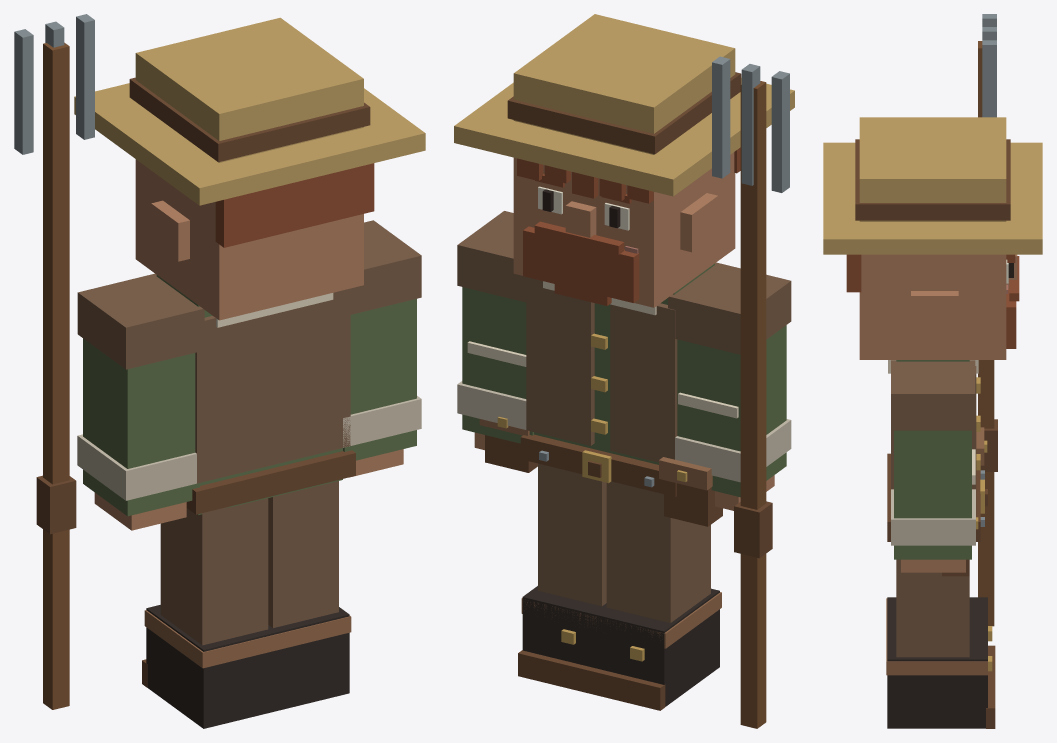
Rendered from stablehand.obj.
The picture shows the model from 3 angles, left to right: view 1: azimuth 30°, elevation 25°; view 2: azimuth 150°, elevation 25°; view 3: azimuth 270°, elevation 25°; orthographic projection. The views are drawn at different scales.
Visible parts, largest first — view 1: head, body, right_arm, right_leg, equipment_right, left_leg, left_arm; view 2: head, body, equipment_right, right_leg, right_arm, left_leg, left_arm; view 3: head, left_arm, left_leg, equipment_right, body, right_leg.
Part boxes in pixels (x1,y1,x2,y2): head: (74, 17, 425, 320); body: (156, 275, 355, 514); right_arm: (77, 273, 204, 530); right_leg: (142, 498, 280, 728); equipment_right: (14, 14, 94, 709); left_leg: (268, 481, 351, 710); left_arm: (343, 220, 421, 477); head: (454, 14, 794, 307); body: (479, 263, 722, 526); equipment_right: (712, 56, 789, 728); right_leg: (586, 481, 721, 710); right_arm: (668, 262, 791, 510); left_leg: (518, 463, 606, 693); left_arm: (457, 211, 533, 450); head: (823, 117, 1042, 359); left_arm: (891, 360, 975, 572); left_leg: (886, 559, 995, 728); equipment_right: (978, 14, 997, 626); body: (887, 360, 987, 576); right_leg: (886, 597, 995, 677).
Bounding box in the file's own units: 1.11 × 2.1 × 0.6975.
